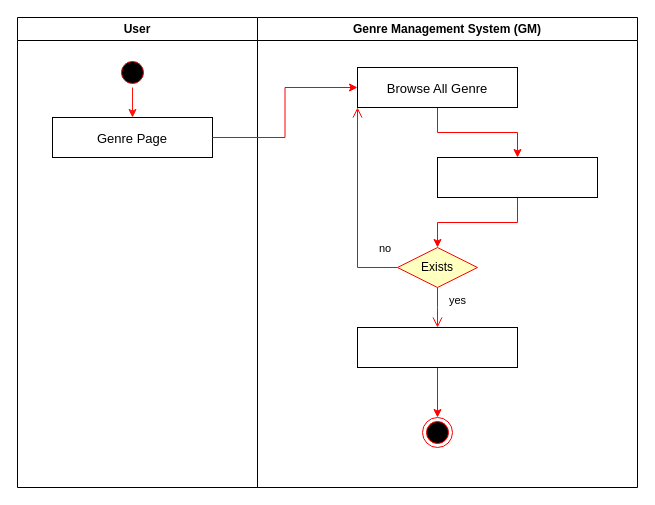
Some shapes in this 655 by 505 pixel diagram are drawn without their labels. Here are the shapes that lost their labels. From the top down, the box of each, then its label:
(436, 156, 598, 198): Select Individual Genre
(356, 326, 518, 368): Display Genre in Grid
